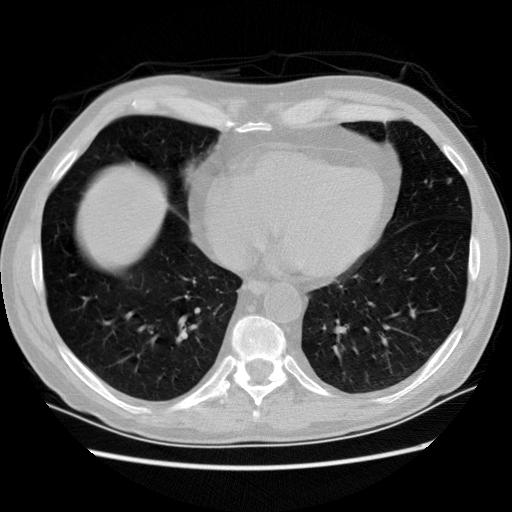nodule: (443, 175, 455, 187)
